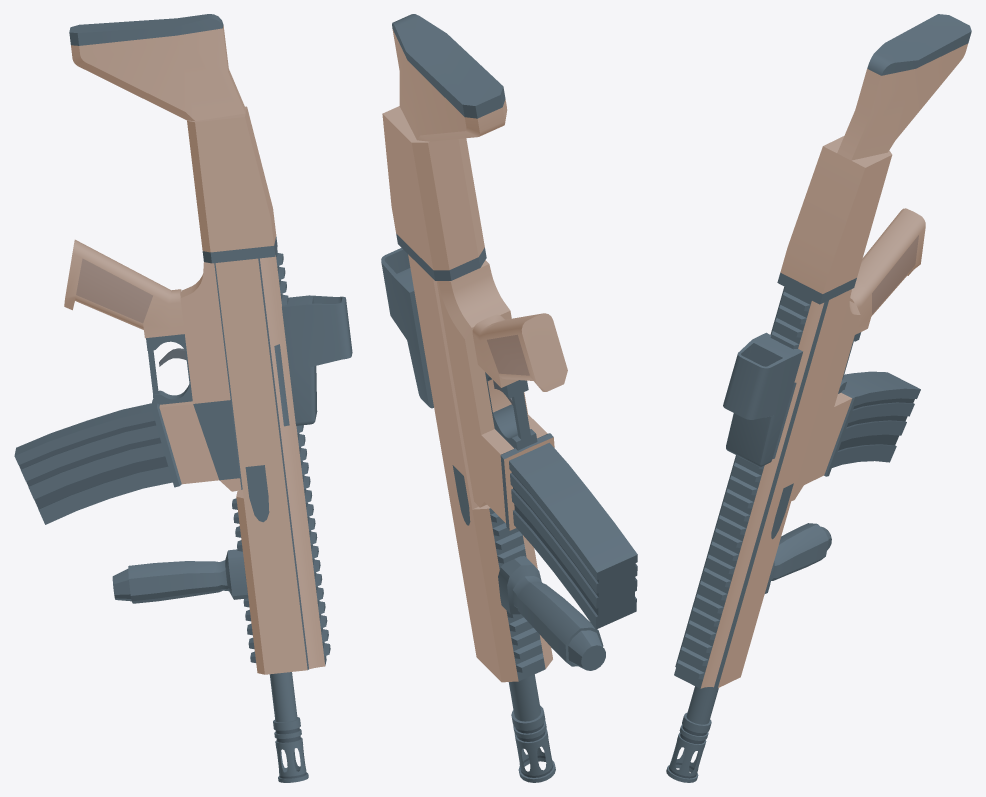
Rendered from large_gun.fbx.
3 renders of one model, left to right at view 1: azimuth 30°, elevation 25°; view 2: azimuth 150°, elevation 25°; view 3: azimuth 270°, elevation 25°, orthographic. The views are drawn at different scales.
Visible parts, largest first — view 1: MG1; view 2: MG1; view 3: MG1.
Boxes of the visible parts, x1,y1,x2,y2 form: MG1: (14, 14, 352, 782); MG1: (381, 14, 637, 782); MG1: (666, 14, 971, 782).
Bounding box in the file's own units: 31.41 × 76.92 × 29.22.
